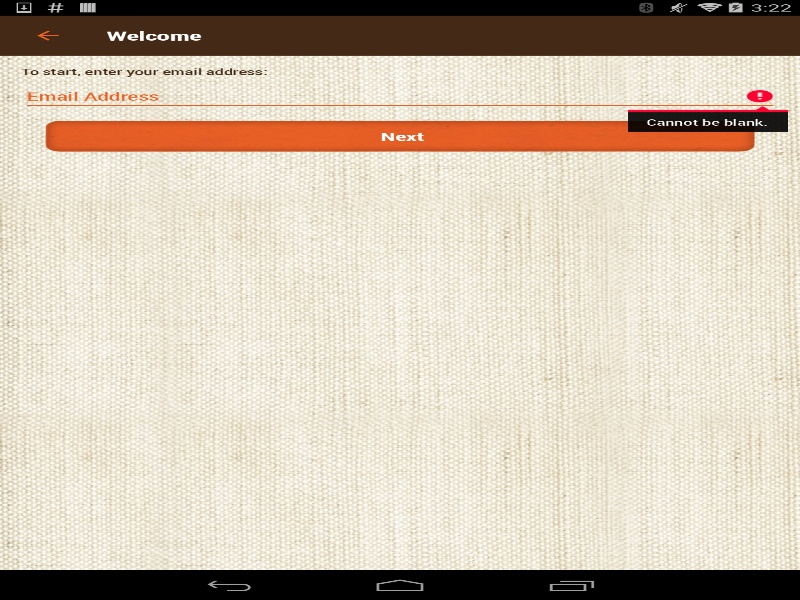Button: (45, 120, 754, 151), (10, 15, 85, 55)
Input: (21, 82, 778, 110)
